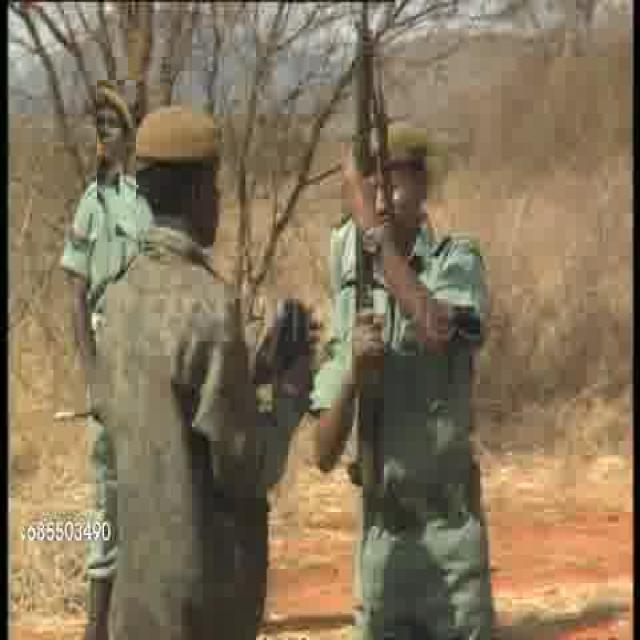poacher: (75, 109, 302, 620), (318, 126, 502, 569), (97, 80, 136, 242)
weapon: (349, 29, 374, 484)
